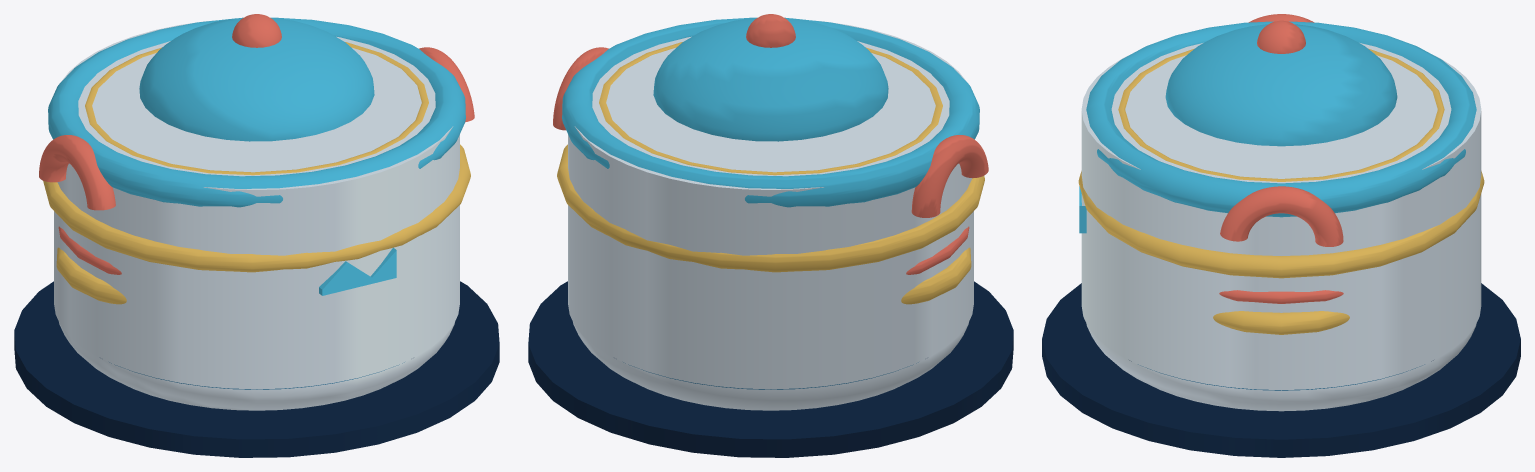
File: 0269_世界古代文明图鉴_章鱼陶罐.glb
The picture shows the model from 3 angles, left to right: view 1: azimuth 30°, elevation 25°; view 2: azimuth 150°, elevation 25°; view 3: azimuth 270°, elevation 25°; orthographic projection.
Visible parts, largest first — view 1: card_0269; view 2: card_0269; view 3: card_0269.
Boxes of the visible parts, <box> form: card_0269: <box>14,14,499,457</box>; card_0269: <box>528,14,1013,457</box>; card_0269: <box>1042,14,1520,457</box>.
Size of the model in its own units: 1.25 by 1 by 1.25.
